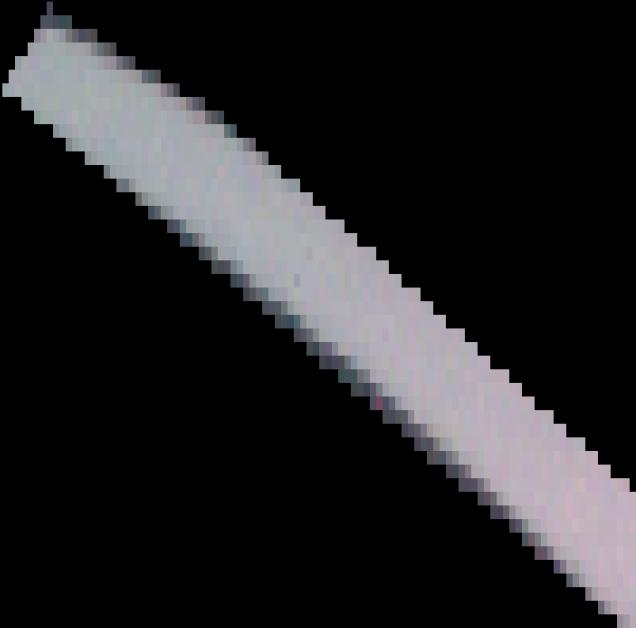curve: (0, 0, 636, 628)
